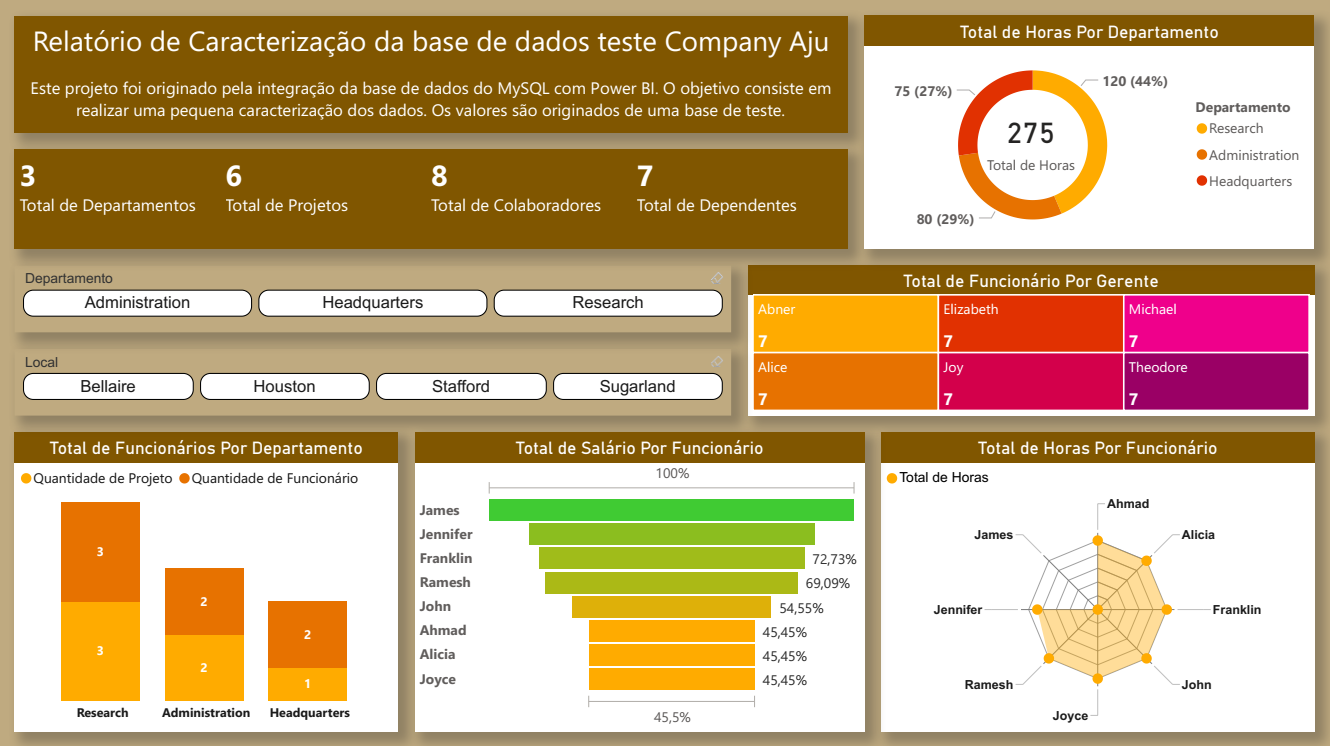

This screenshot's page, from the dashboard's own definition file:
{"tool":"powerbi","page":{"name":"Relatório 1","canvas":[1280,720],"ordinal":0},"visuals":[{"type":"donutChart","title":"Total de Horas Por Departamento","fields":{"Category":["company_constraints departament.Dname"],"Y":["company_constraints works_on.Hours"]},"box":[832,16,432,224],"z":0,"group":"g1"},{"type":"treemap","title":"Total de Funcionário Por Gerente","fields":{"Group":["azure_company_aju dependent.Dependent_name"],"Values":["azure_company_aju employee.Fname"]},"box":[720,256,544,144],"z":0},{"type":"columnChart","title":"Total de Funcionários Por Departamento","fields":{"Y":["azure_company_aju project.Pnumber","azure_company_aju employee.Dno"],"Category":["company_constraints departament.Dname"]},"box":[16,416,368,288],"z":1000},{"type":"card","fields":{"Values":["company_constraints works_on.Hours"]},"box":[928,80,128,112],"z":2000,"group":"g1"},{"type":"RadarChart1446119667547","title":"Total de Horas Por Funcionário","fields":{"Category":["company_constraints employee.Fname"],"Y":["company_constraints works_on.Hours"]},"box":[848,416,416,288],"z":2000},{"type":"textbox","box":[16,16,800,112],"z":3000},{"type":"ChicletSlicer1448559807354","fields":{"Category":["company_constraints departament.Dname"]},"box":[16,256,688,64],"z":4000},{"type":"ChicletSlicer1448559807354","fields":{"Category":["company_constraints project.Plocation"]},"box":[16,336,688,64],"z":5000},{"type":"multiRowCard","fields":{"Values":["company_constraints departament.Dname","company_constraints project.Pname","company_constraints employee.Fname","company_constraints dependent.Dependent_name"]},"box":[16,144,800,96],"z":6000},{"type":"funnel","title":"Total de Salário Por Funcionário","fields":{"Category":["azure_company_aju employee.Fname"],"Y":["azure_company_aju employee.Salary"]},"box":[400,416,432,288],"z":7000},{"type":"group","id":"g1","title":"Grupo 1","box":[832,16,432,224],"z":8000}]}

Visuals, with their boxes in screenshot pixels (x1, y1, x2, y2), scaled from the page's 1280x720 canvas onto the 1330x746 screenshot:
"Total de Horas Por Departamento" donutChart: 864/17/1313/249
"Total de Funcionário Por Gerente" treemap: 748/265/1313/414
"Total de Funcionários Por Departamento" columnChart: 17/431/399/729
card - company_constraints works_on.Hours: 964/83/1097/199
"Total de Horas Por Funcionário" RadarChart1446119667547: 881/431/1313/729
textbox: 17/17/848/133
ChicletSlicer1448559807354 - company_constraints departament.Dname: 17/265/732/332
ChicletSlicer1448559807354 - company_constraints project.Plocation: 17/348/732/414
multiRowCard - company_constraints departament.Dname x company_constraints project.Pname: 17/149/848/249
"Total de Salário Por Funcionário" funnel: 416/431/864/729
"Grupo 1" group: 864/17/1313/249
